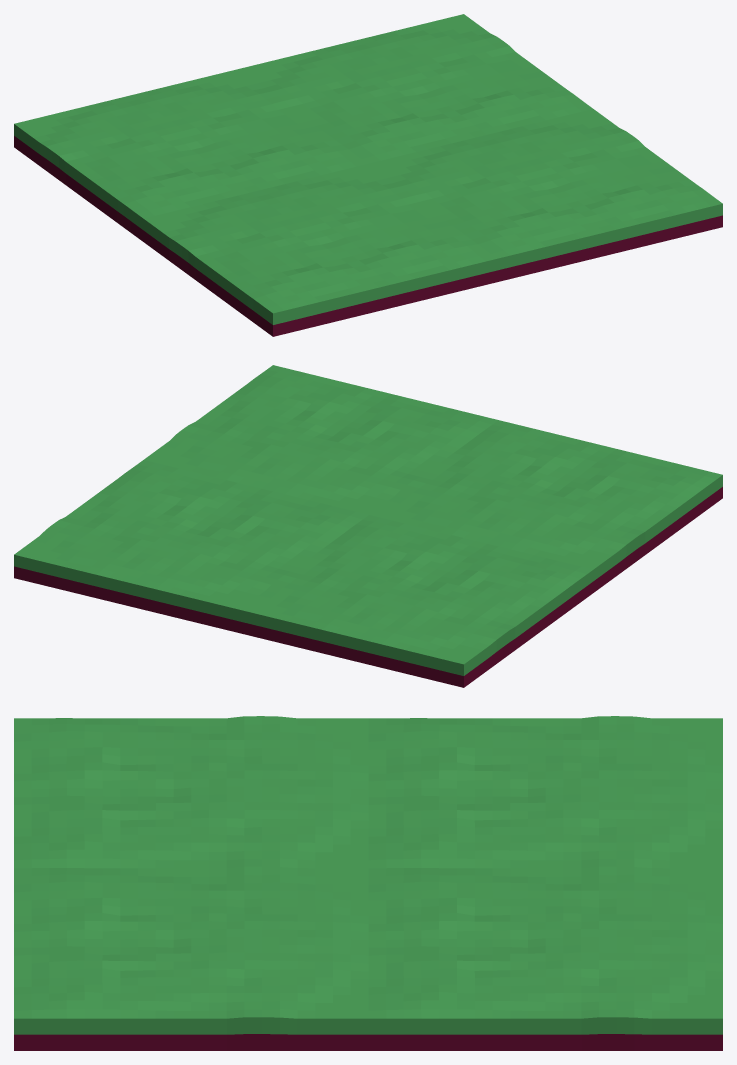
File: grassblend.fbx
3 views of the same model, one above another, from view 1: azimuth 30°, elevation 25°; view 2: azimuth 150°, elevation 25°; view 3: azimuth 270°, elevation 25° (orthographic). The views are drawn at different scales.
Parts seen in each view (by area): view 1: Cube; view 2: Cube; view 3: Cube.
Part boxes in pixels (left/top/right/bottom): Cube: left=14, top=14, right=722, bottom=336; Cube: left=14, top=365, right=722, bottom=687; Cube: left=14, top=716, right=722, bottom=1050.
Bounding box in the file's own units: 4021 × 221 × 4000.
